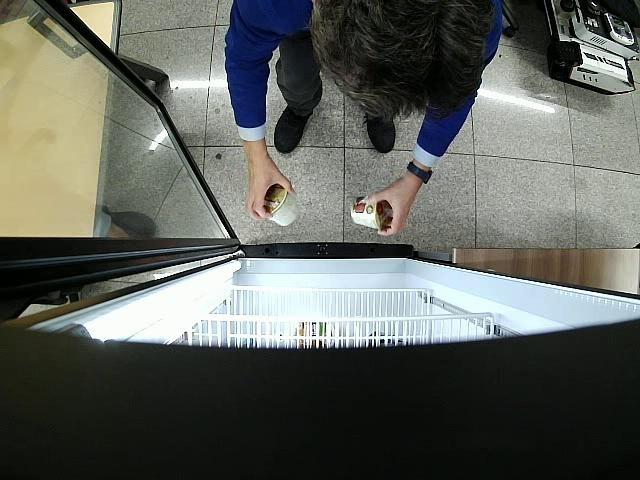04_chapagetti_S: (264, 184, 300, 226), (351, 200, 393, 230)
